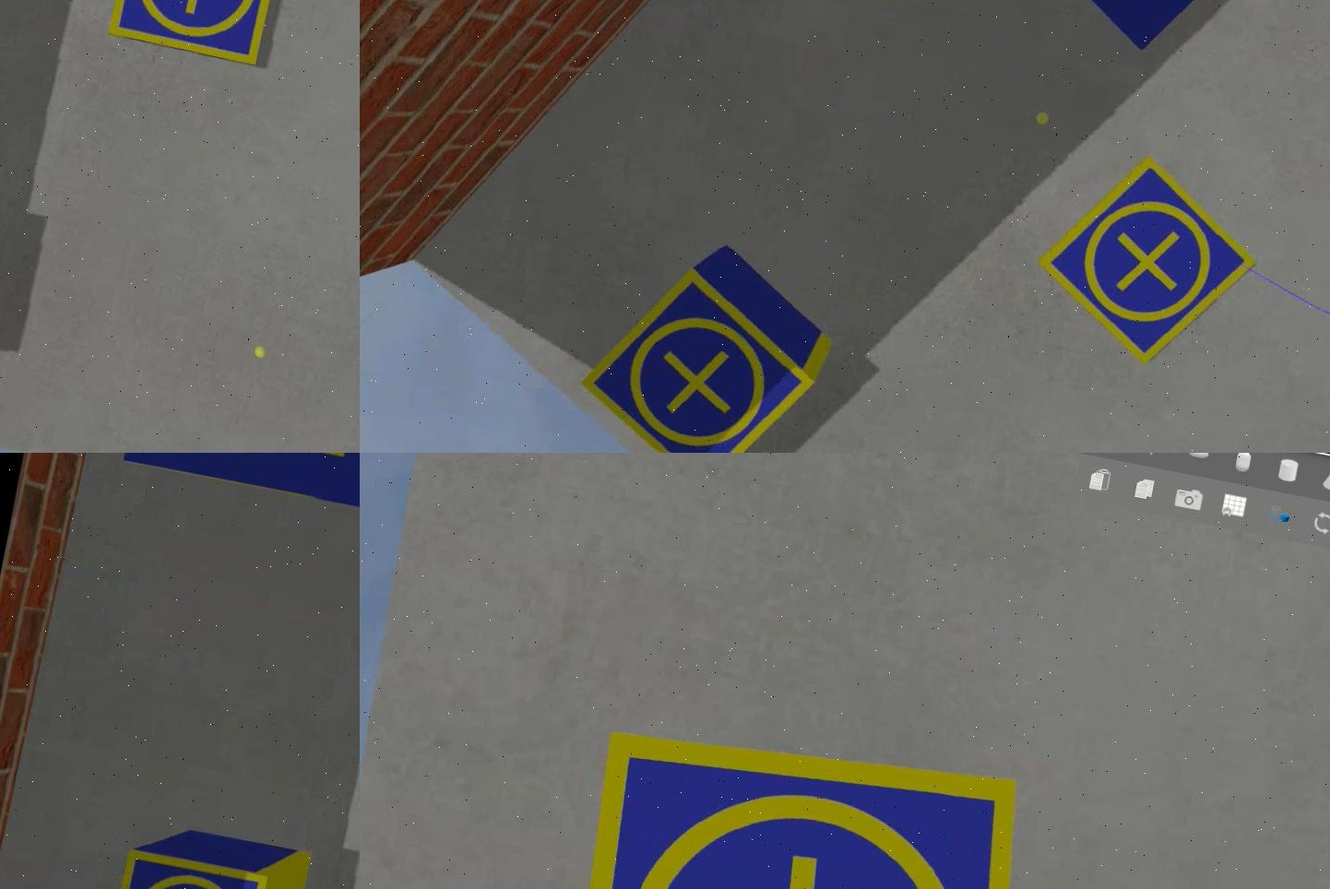large_base: (883, 1, 1305, 66), (118, 454, 359, 513)
small_base: (520, 692, 1068, 889), (1020, 143, 1266, 384), (567, 256, 824, 454), (106, 1, 291, 68), (109, 846, 270, 889)
